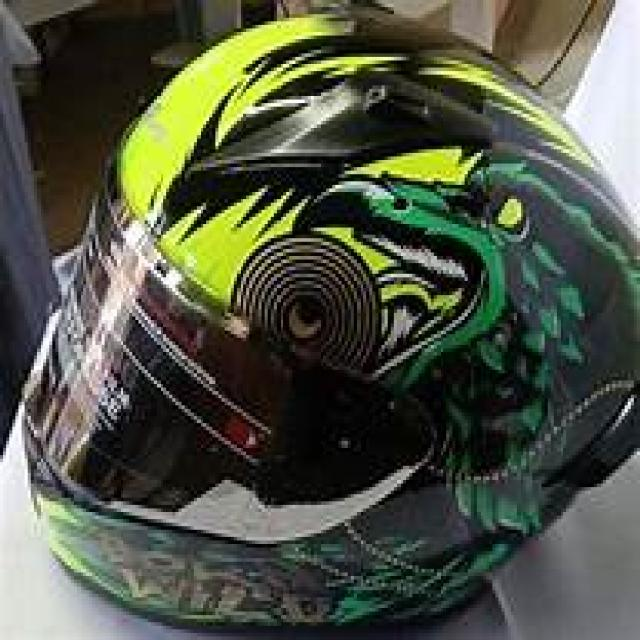helmet: (25, 0, 636, 640)
